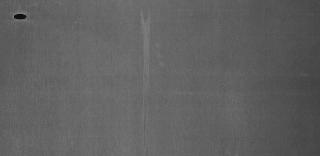punching hole: (14, 12, 28, 20)
water spot: (136, 8, 156, 134)
